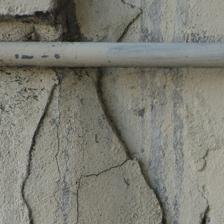Crack: (51, 56, 163, 167), (54, 0, 165, 67), (0, 0, 93, 61), (0, 29, 74, 102), (11, 35, 81, 74), (128, 26, 164, 58)
